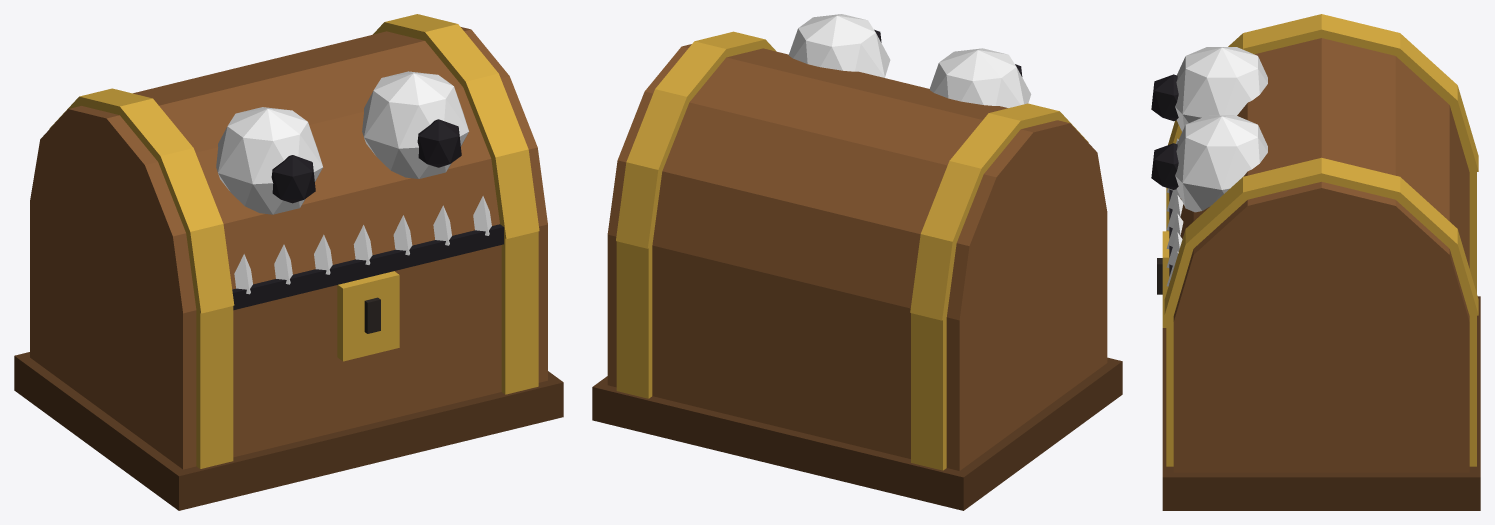
Rendered from mimic.glb.
3 views of the same model, side by side, from view 1: azimuth 30°, elevation 25°; view 2: azimuth 150°, elevation 25°; view 3: azimuth 270°, elevation 25° (orthographic). The views are drawn at different scales.
Parts seen in each view (by area): view 1: Mimic; view 2: Mimic; view 3: Mimic.
Boxes of the visible parts, x1,y1,x2,y2 form: Mimic: (14, 14, 563, 510); Mimic: (592, 14, 1122, 510); Mimic: (1151, 14, 1480, 510).
Size of the model in its own units: 1.16 by 1.01 by 0.8906.
